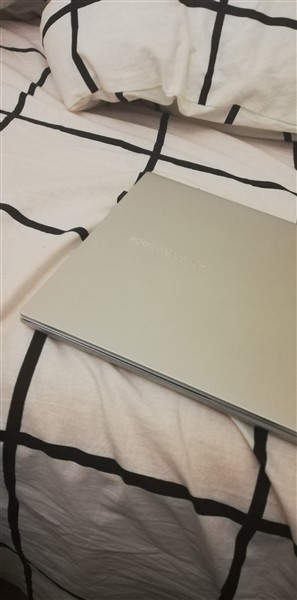laptop: (25, 159, 297, 447)
